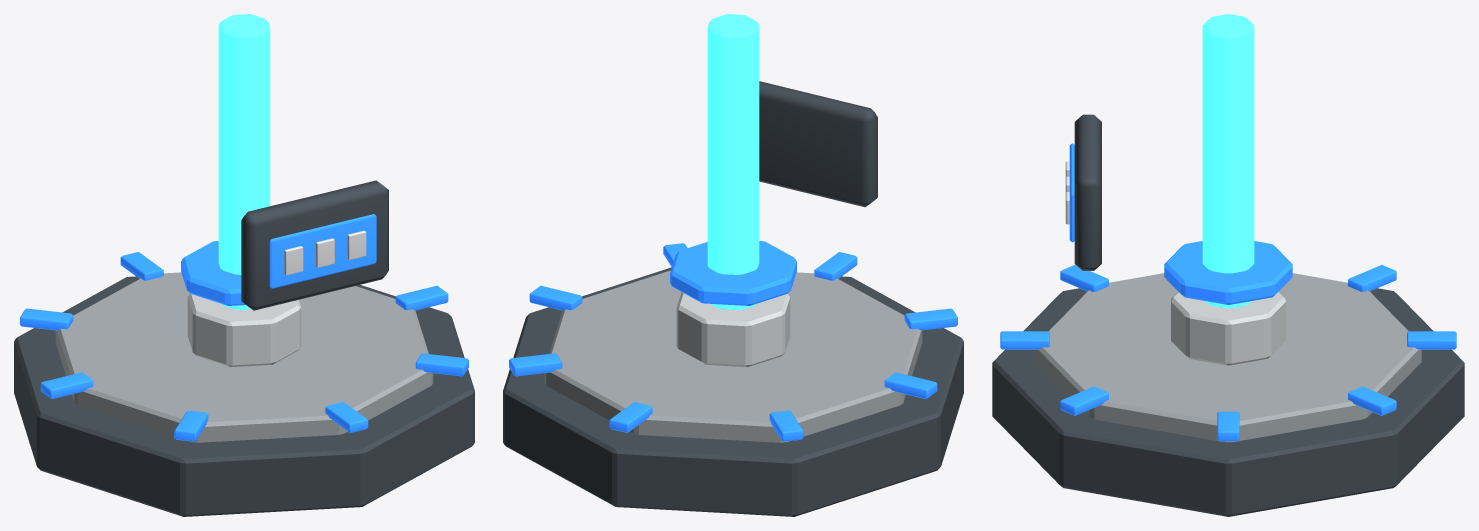
Rendered from Objective_Station_Blue.fbx.
3 renders of one model, left to right at view 1: azimuth 30°, elevation 25°; view 2: azimuth 150°, elevation 25°; view 3: azimuth 270°, elevation 25°, orthographic.
Parts seen in each view (by area): view 1: Octagonal base, Raised deck, Energy column, Progress panel, Column socket, Progress screen, Team collar, Team rim marker.007, Team rim marker.003, Team rim marker.004, Team rim marker, Team rim marker.006 (+5 smaller); view 2: Octagonal base, Raised deck, Energy column, Progress panel, Column socket, Team collar, Team rim marker.001, Team rim marker.005, Team rim marker.004, Team rim marker, Team rim marker.002, Team rim marker.006 (+1 smaller); view 3: Octagonal base, Raised deck, Energy column, Column socket, Team collar, Progress panel, Team rim marker.002, Team rim marker.006, Team rim marker.001, Team rim marker.007, Team rim marker.003, Team rim marker.005 (+2 smaller).
Part boxes in pixels (x1=…): Octagonal base: x1=14, y1=276, x2=474, y2=516; Raised deck: x1=55, y1=272, x2=433, y2=442; Energy column: x1=218, y1=14, x2=270, y2=309; Progress panel: x1=241, y1=180, x2=388, y2=310; Column socket: x1=187, y1=293, x2=301, y2=367; Progress screen: x1=269, y1=214, x2=376, y2=288; Team collar: x1=181, y1=241, x2=245, y2=305; Team rim marker.007: x1=415, y1=353, x2=468, y2=376; Team rim marker.003: x1=20, y1=308, x2=73, y2=330; Team rim marker.004: x1=40, y1=372, x2=93, y2=399; Team rim marker: x1=395, y1=285, x2=448, y2=310; Team rim marker.006: x1=325, y1=402, x2=368, y2=432; Octagonal base: x1=503, y1=267, x2=963, y2=516; Raised deck: x1=544, y1=270, x2=922, y2=442; Energy column: x1=707, y1=14, x2=759, y2=309; Progress panel: x1=759, y1=81, x2=877, y2=207; Column socket: x1=676, y1=292, x2=790, y2=367; Team collar: x1=670, y1=241, x2=796, y2=305; Team rim marker.001: x1=509, y1=353, x2=562, y2=376; Team rim marker.005: x1=904, y1=308, x2=957, y2=330; Team rim marker.004: x1=884, y1=372, x2=937, y2=399; Team rim marker: x1=529, y1=285, x2=582, y2=310; Team rim marker.002: x1=609, y1=402, x2=652, y2=432; Team rim marker.006: x1=814, y1=252, x2=857, y2=280; Octagonal base: x1=992, y1=288, x2=1464, y2=516; Raised deck: x1=1035, y1=273, x2=1421, y2=442; Energy column: x1=1202, y1=14, x2=1254, y2=308; Column socket: x1=1171, y1=292, x2=1285, y2=365; Team collar: x1=1164, y1=241, x2=1292, y2=304; Progress panel: x1=1074, y1=114, x2=1101, y2=270; Team rim marker.002: x1=1407, y1=331, x2=1456, y2=349; Team rim marker.006: x1=1000, y1=331, x2=1049, y2=349; Team rim marker.001: x1=1348, y1=386, x2=1396, y2=415; Team rim marker.007: x1=1060, y1=386, x2=1108, y2=415; Team rim marker.003: x1=1348, y1=265, x2=1396, y2=291; Team rim marker.005: x1=1060, y1=265, x2=1108, y2=291.
Size of the model in its own units: 209 by 193 by 209.
